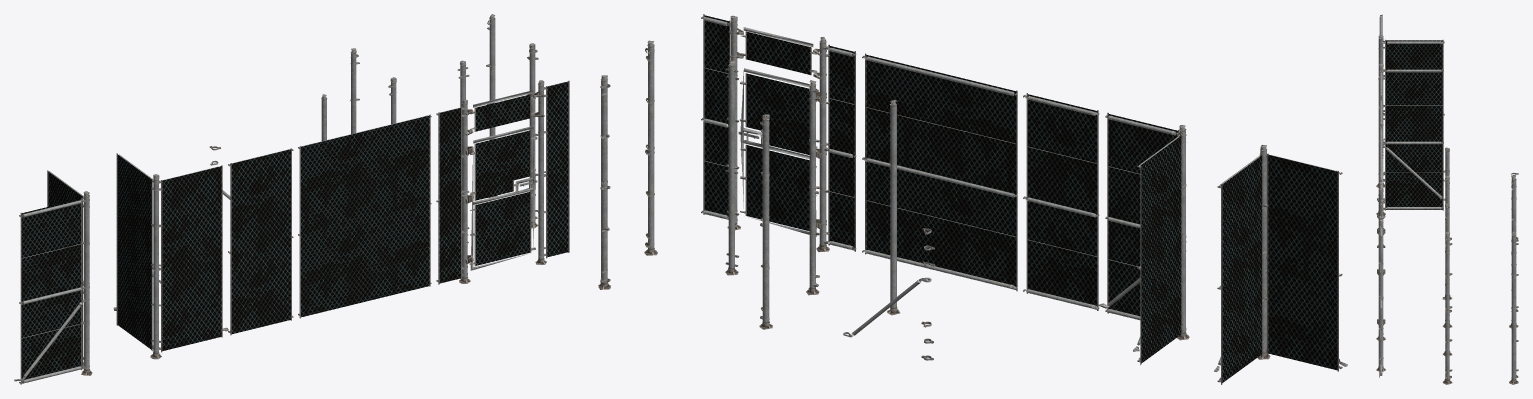
File: modular_chainlink_fence.gltf
3 renders of one model, left to right at view 1: azimuth 30°, elevation 25°; view 2: azimuth 150°, elevation 25°; view 3: azimuth 270°, elevation 25°, orthographic. The views are drawn at different scales.
Visible parts, largest first — view 1: modular_chainlink_fence_double, modular_chainlink_fence_corner_outer, modular_chainlink_fence_corner_inner, modular_chainlink_fence_door_frame, modular_chainlink_fence, modular_chainlink_fence_door_gate, modular_chainlink_fence_start_01_corner_01, modular_chainlink_fence_start_01_corner_02, modular_chainlink_fence_end_02; view 2: modular_chainlink_fence_double, modular_chainlink_fence_corner_inner, modular_chainlink_fence_corner_outer, modular_chainlink_fence_door_frame, modular_chainlink_fence, modular_chainlink_fence_door_gate, modular_chainlink_fence_end_02, modular_chainlink_post_middle, modular_chainlink_fence_end_01, modular_chainlink_fence_start_01_corner_01, modular_chainlink_fence_start_01_corner_02, modular_chainlink_fence_post; view 3: modular_chainlink_fence_corner_outer, modular_chainlink_fence_corner_inner, modular_chainlink_fence_door_frame, modular_chainlink_fence_start_01_corner_02, modular_chainlink_fence_start_01_corner_01, modular_chainlink_fence_end_02, modular_chainlink_fence_double, modular_chainlink_fence_end_01, modular_chainlink_post_middle, modular_chainlink_fence_post.
Part boxes in pixels (<box>): modular_chainlink_fence_double: <box>298,114,431,318</box>; modular_chainlink_fence_corner_outer: <box>113,153,228,359</box>; modular_chainlink_fence_corner_inner: <box>14,170,92,384</box>; modular_chainlink_fence_door_frame: <box>436,80,569,284</box>; modular_chainlink_fence: <box>228,148,293,335</box>; modular_chainlink_fence_door_gate: <box>469,126,536,270</box>; modular_chainlink_fence_start_01_corner_01: <box>527,43,538,228</box>; modular_chainlink_fence_start_01_corner_02: <box>486,14,497,197</box>; modular_chainlink_fence_end_02: <box>350,48,359,133</box>; modular_chainlink_fence_double: <box>862,53,1017,291</box>; modular_chainlink_fence_corner_inner: <box>1214,145,1347,384</box>; modular_chainlink_fence_corner_outer: <box>1098,112,1189,365</box>; modular_chainlink_fence_door_frame: <box>701,14,856,251</box>; modular_chainlink_fence: <box>1023,93,1099,310</box>; modular_chainlink_fence_door_gate: <box>740,68,817,236</box>; modular_chainlink_fence_end_02: <box>759,114,772,329</box>; modular_chainlink_post_middle: <box>725,60,739,275</box>; modular_chainlink_fence_end_01: <box>806,80,819,295</box>; modular_chainlink_fence_start_01_corner_01: <box>644,40,657,255</box>; modular_chainlink_fence_start_01_corner_02: <box>598,75,610,289</box>; modular_chainlink_fence_post: <box>887,99,900,315</box>; modular_chainlink_fence_corner_outer: <box>1376,63,1445,215</box>; modular_chainlink_fence_corner_inner: <box>1376,14,1449,187</box>; modular_chainlink_fence_door_frame: <box>1376,182,1385,377</box>; modular_chainlink_fence_start_01_corner_02: <box>1509,231,1518,384</box>; modular_chainlink_fence_start_01_corner_01: <box>1442,231,1452,384</box>; modular_chainlink_fence_end_02: <box>1509,175,1518,328</box>; modular_chainlink_fence_double: <box>1379,126,1382,183</box>; modular_chainlink_fence_end_01: <box>1442,175,1452,327</box>; modular_chainlink_post_middle: <box>1442,203,1452,355</box>; modular_chainlink_fence_post: <box>1442,147,1452,299</box>.
Size of the model in its own units: 8.11 by 2.5 by 2.15.
2 materials, 2 textured.
